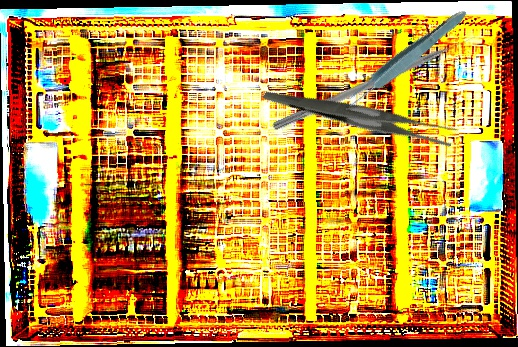Dressing Forceps: (262, 35, 460, 194)
Pusher: (271, 32, 479, 134)
Tissue Forceps: (340, 3, 472, 113)
